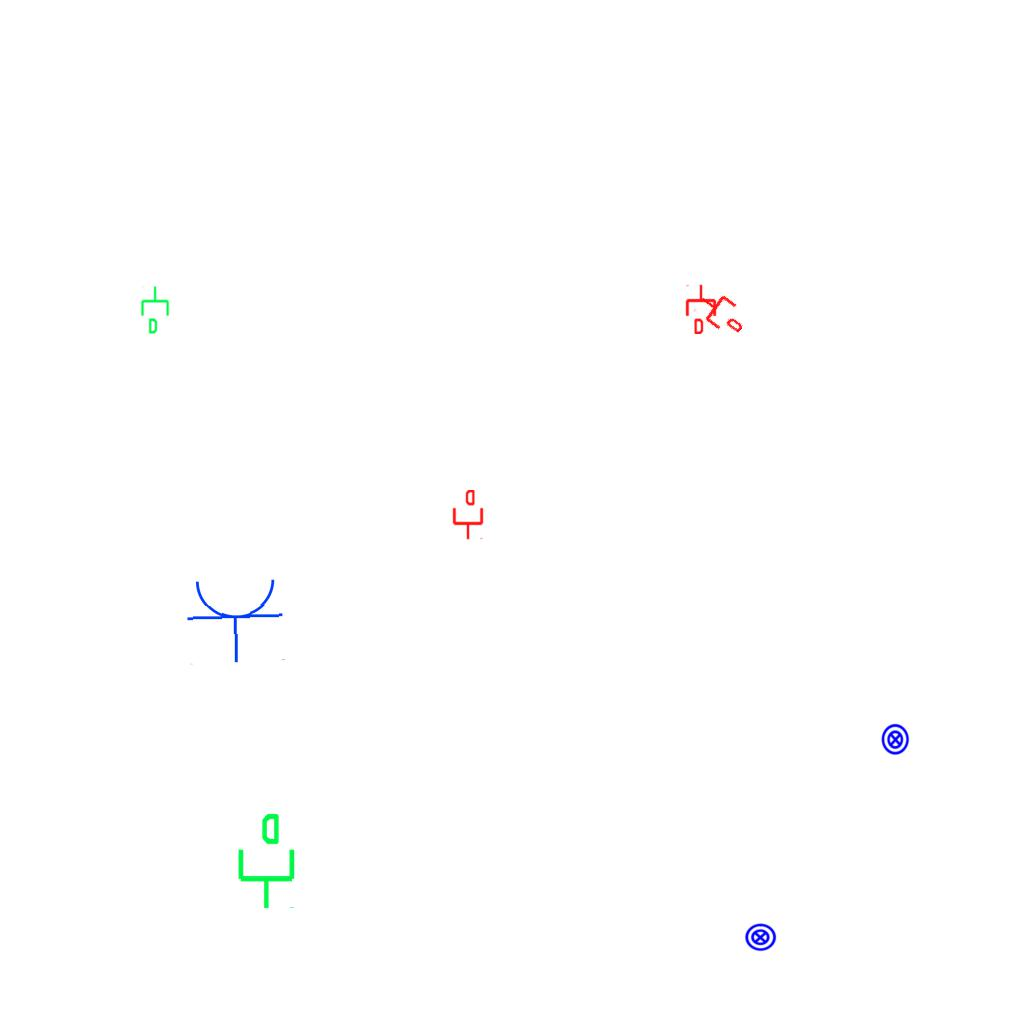Datenanschluss_einfach: (230, 811, 299, 911), (691, 284, 753, 342), (139, 285, 173, 335), (451, 490, 485, 540), (684, 284, 718, 334)
Schukosteckdose_einfach: (184, 574, 288, 665)
Taster_beleuchtet: (879, 723, 912, 756), (744, 921, 777, 954)
